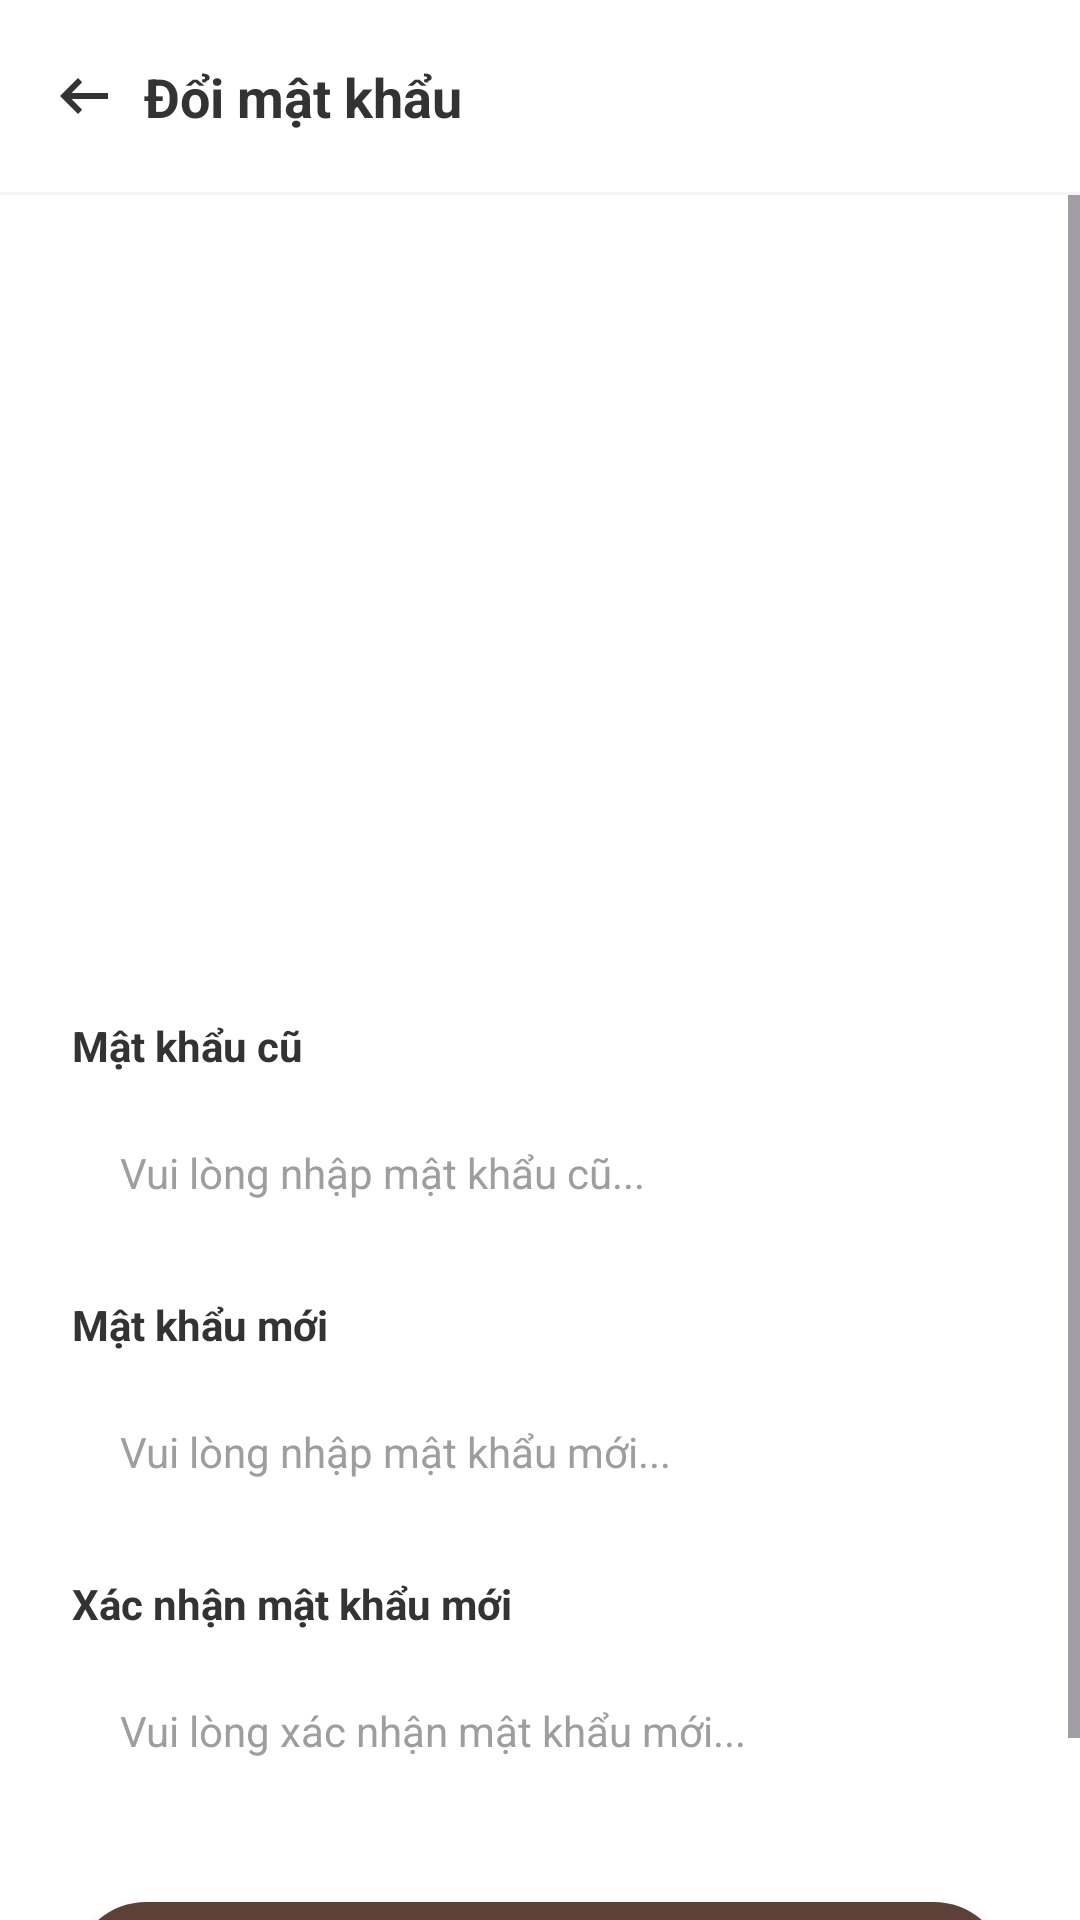

Locate icon controls on the screen. Image size 1080*1920, boxes as {"x1": x1, "y1": y1, "x2": x2, "y2": y2}.
arrow back: {"x1": 60, "y1": 78, "x2": 108, "y2": 114}
